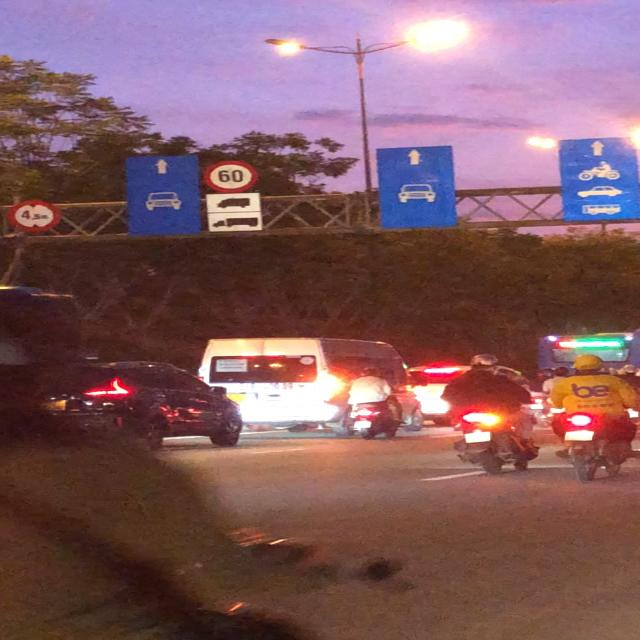Bien bao han che chieu cao: (12, 197, 66, 236)
Bien bao toc do toi da cho phep: (193, 156, 263, 194)
